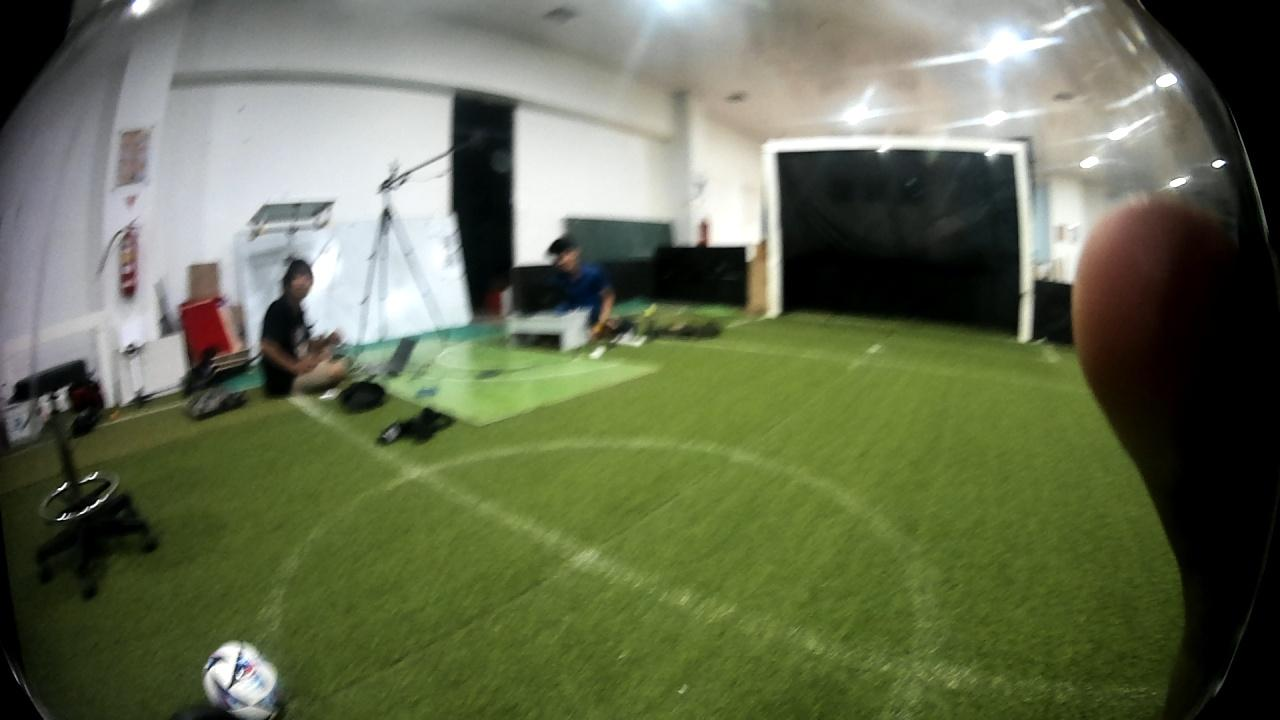ball: (196, 629, 294, 720)
